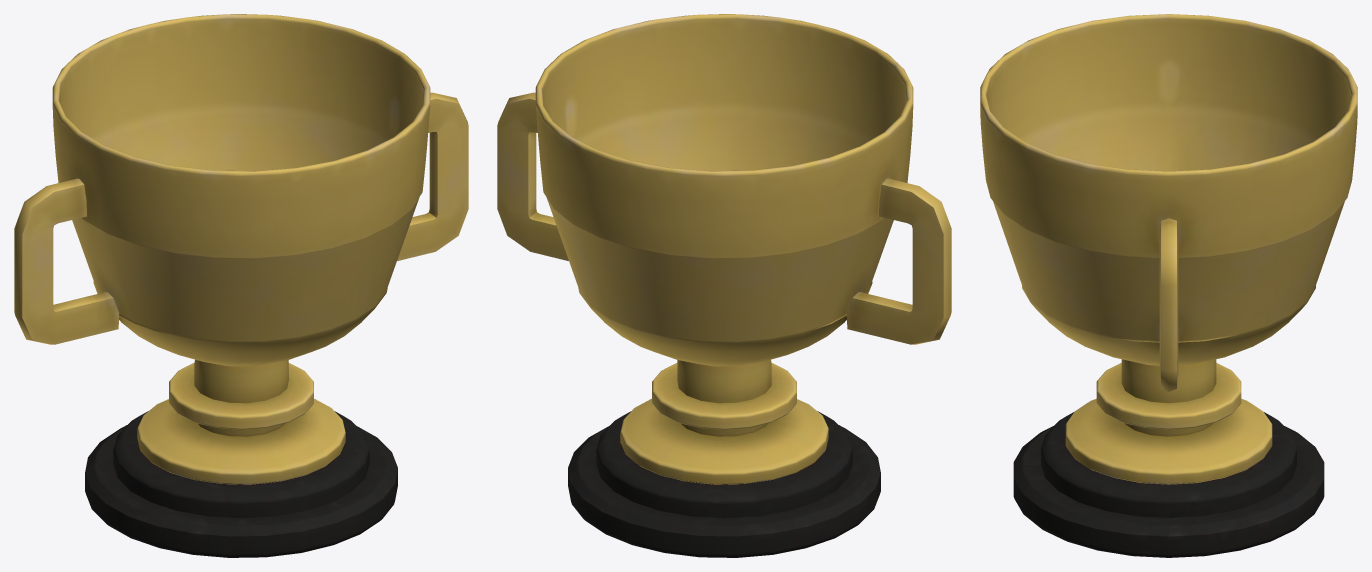
Rendered from trophy-cup-squat.glb.
3 renders of one model, left to right at view 1: azimuth 30°, elevation 25°; view 2: azimuth 150°, elevation 25°; view 3: azimuth 270°, elevation 25°, orthographic.
Parts seen in each view (by area): view 1: cup; view 2: cup; view 3: cup.
Part boxes in pixels (bbox=[...]): cup: bbox=[14, 14, 468, 557]; cup: bbox=[497, 14, 951, 557]; cup: bbox=[980, 14, 1357, 557].
Bounding box in the file's own units: 0.22 × 0.1866 × 0.1591.
Materials: 1 (1 with a texture image).
